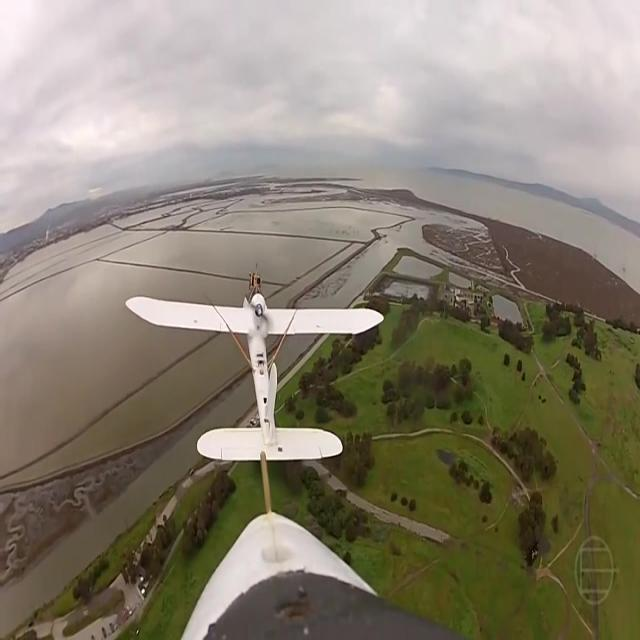iha: (125, 272, 385, 464)
